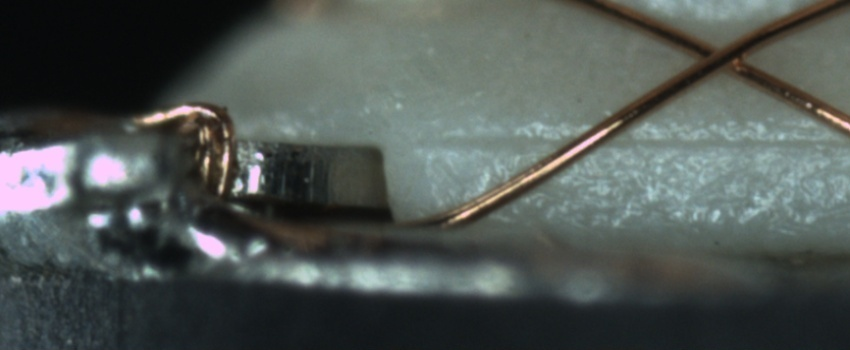CL: (677, 25, 774, 85)
DL: (420, 113, 849, 169)
TE: (122, 97, 243, 202)
